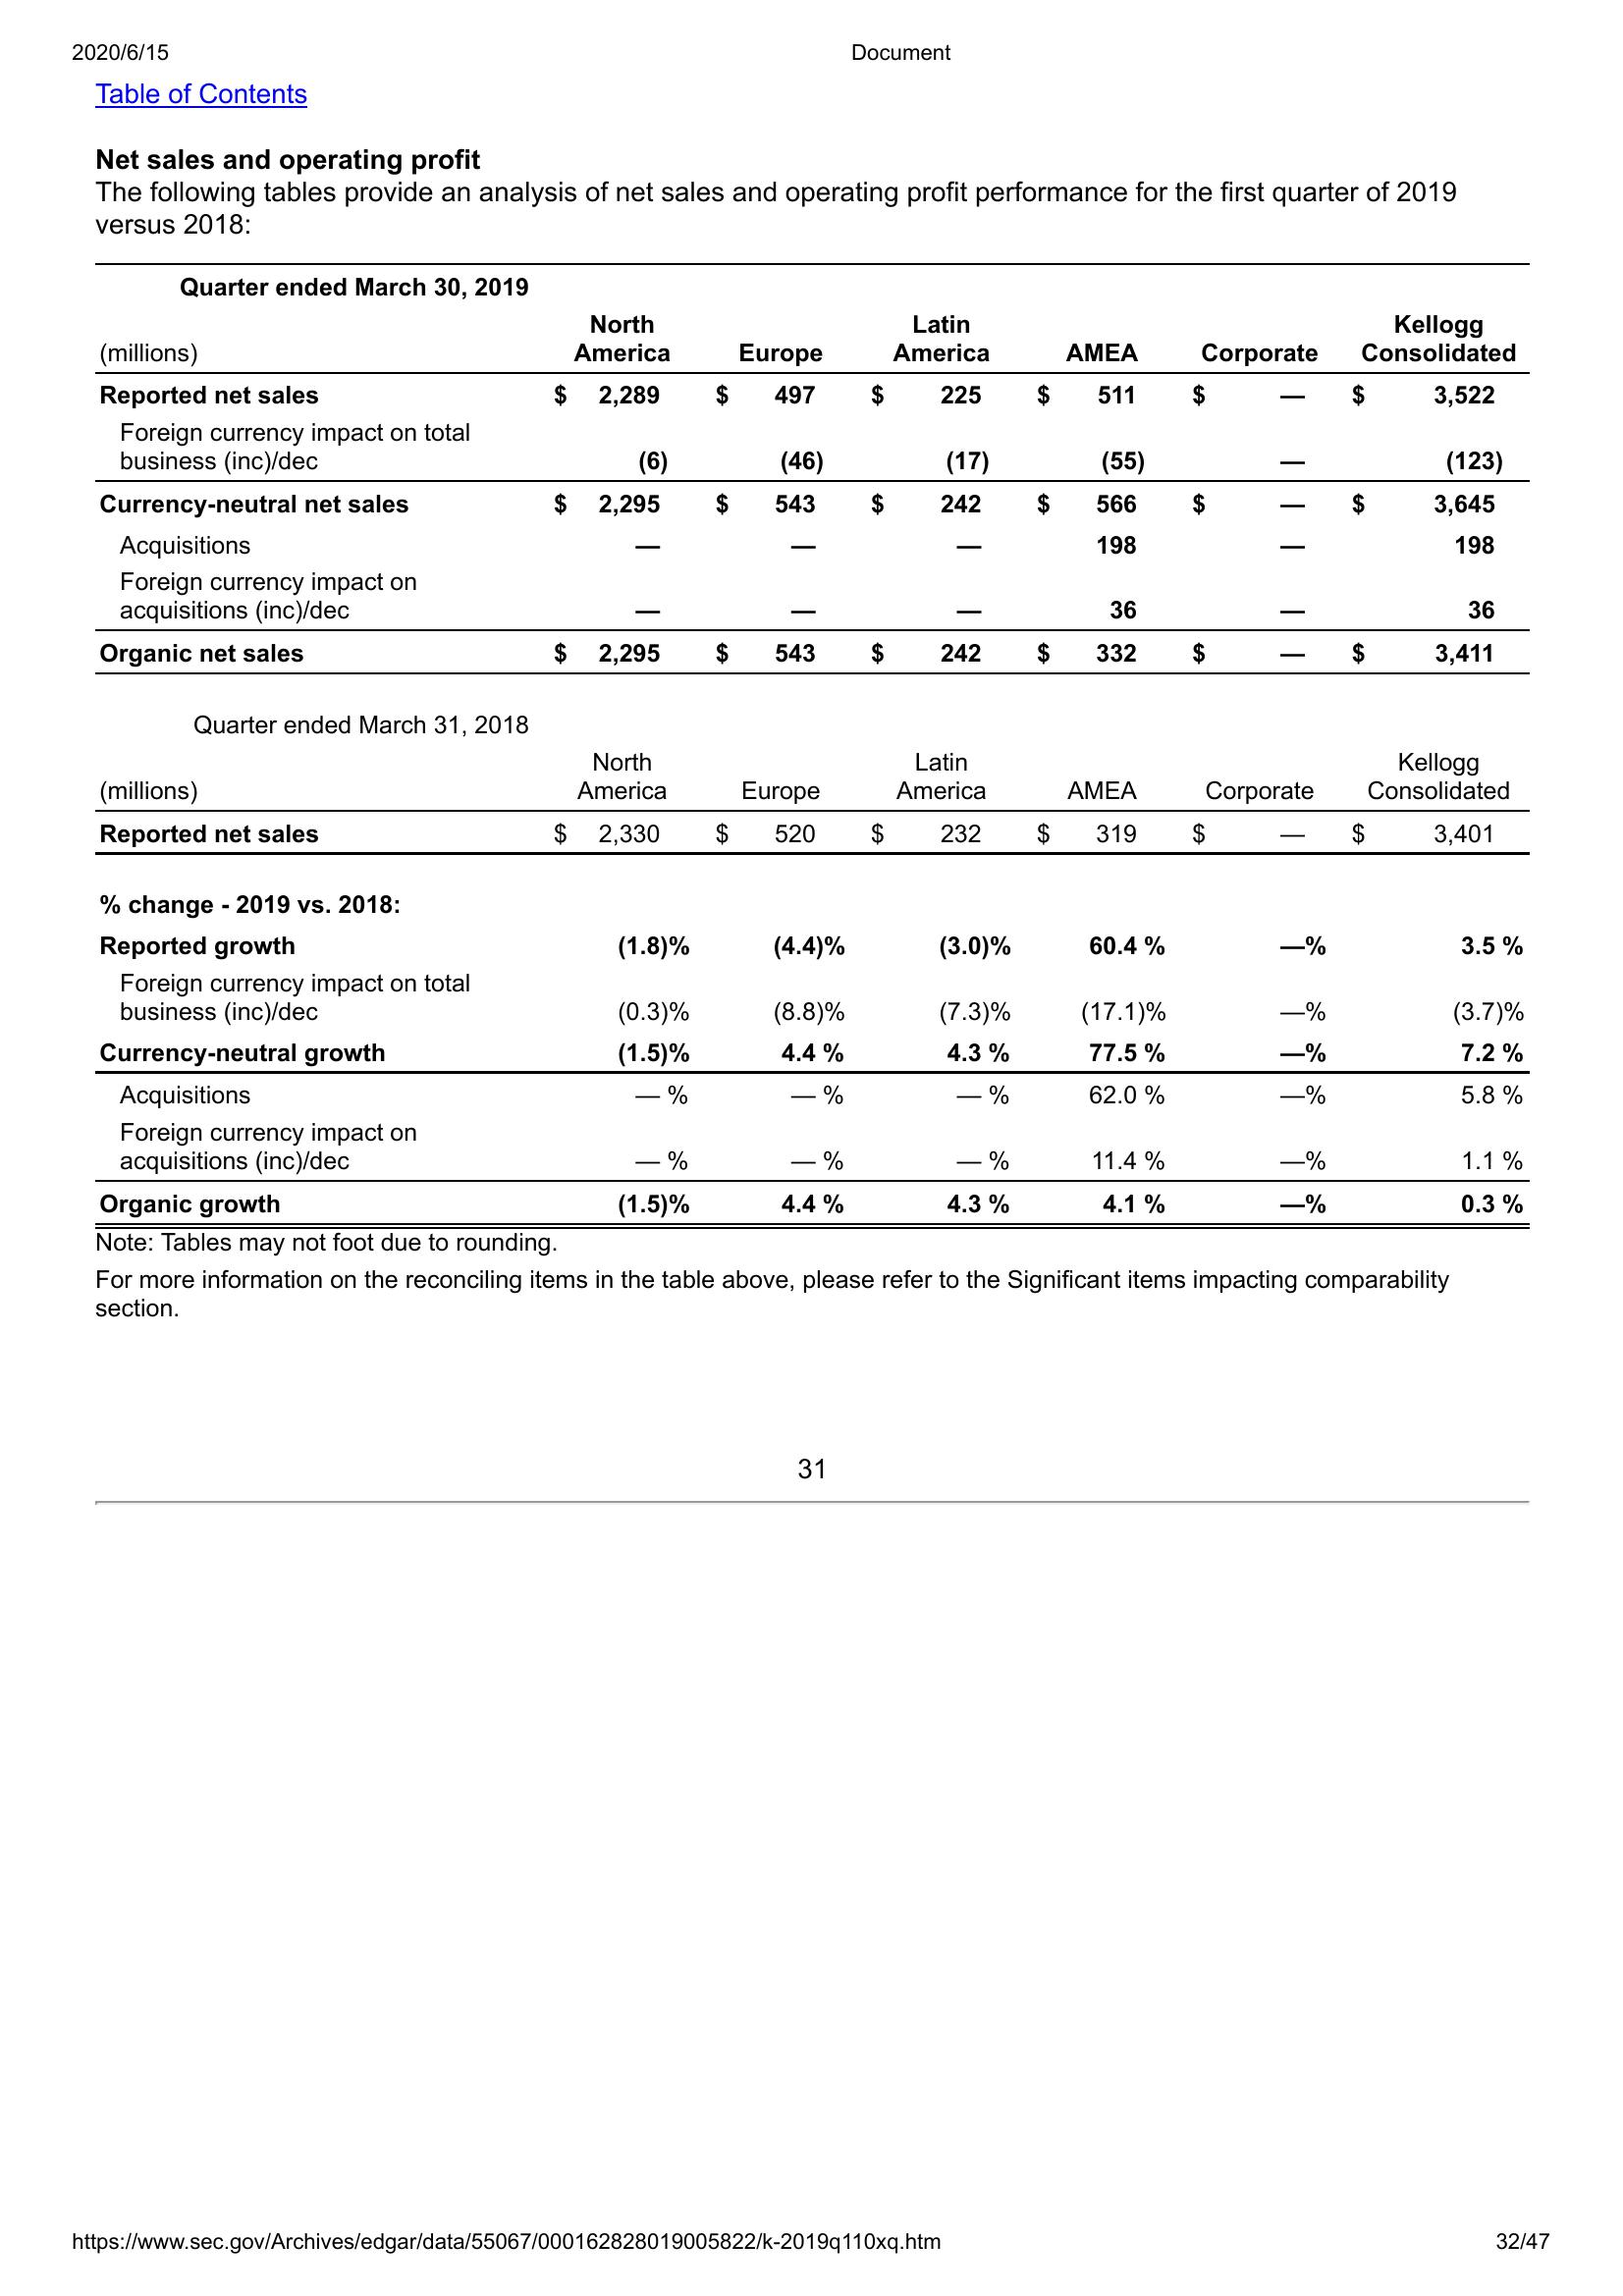table: (93, 260, 1539, 1234)
